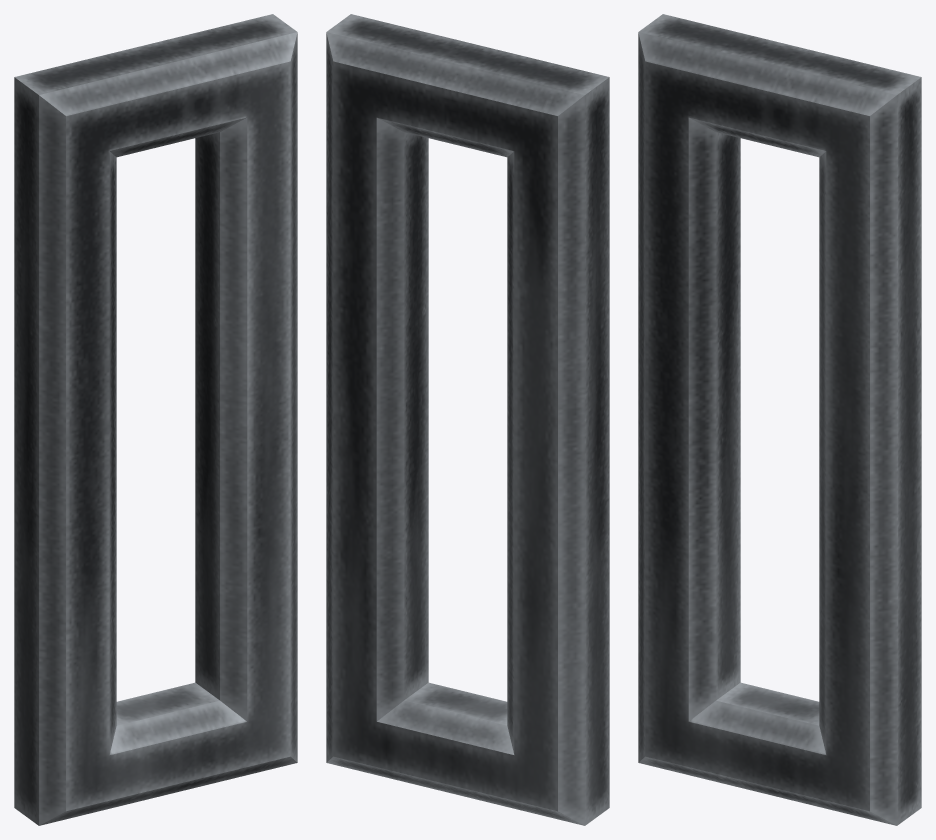
File: Warlink_ChainLink.fbx
3 views of the same model, side by side, from view 1: azimuth 30°, elevation 25°; view 2: azimuth 150°, elevation 25°; view 3: azimuth 330°, elevation 25° (orthographic).
Parts seen in each view (by area): view 1: Warlink_ChainLink; view 2: Warlink_ChainLink; view 3: Warlink_ChainLink.
Boxes of the visible parts, box(x1,y1,x2,y2) form: Warlink_ChainLink: box(14, 14, 297, 825); Warlink_ChainLink: box(326, 14, 609, 825); Warlink_ChainLink: box(638, 14, 921, 825).
Size of the model in its own units: 0.1 by 0.27 by 0.03.
